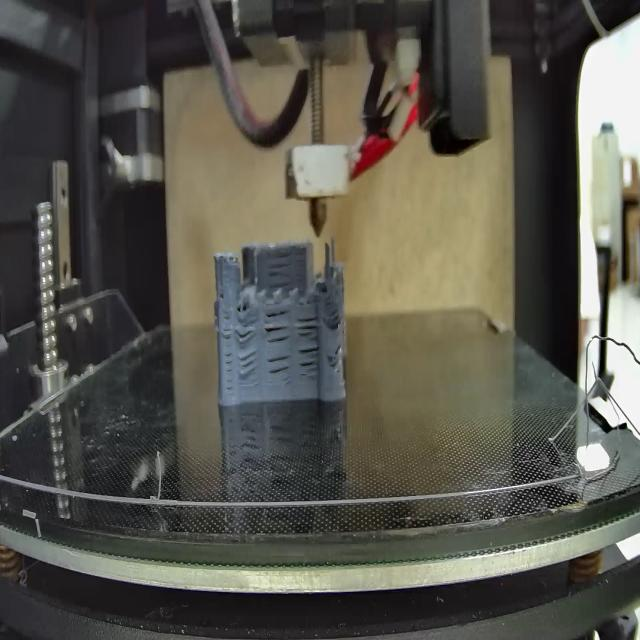cracks: (262, 246, 293, 291), (220, 317, 234, 392), (264, 310, 292, 342), (266, 357, 294, 385), (299, 344, 319, 380), (238, 347, 258, 378), (236, 318, 258, 345), (298, 317, 318, 340), (327, 309, 342, 327), (333, 343, 343, 359), (218, 282, 225, 302)
